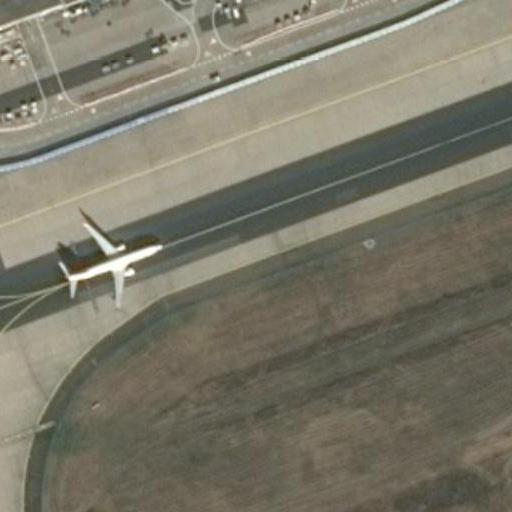Aircraft: (54, 210, 166, 308), (51, 211, 163, 308)
